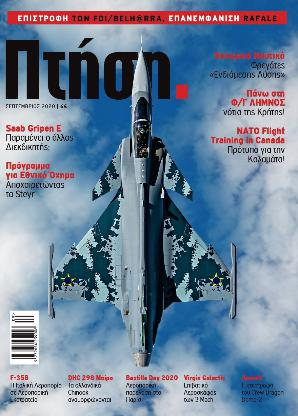JAS39: (47, 32, 235, 366)
